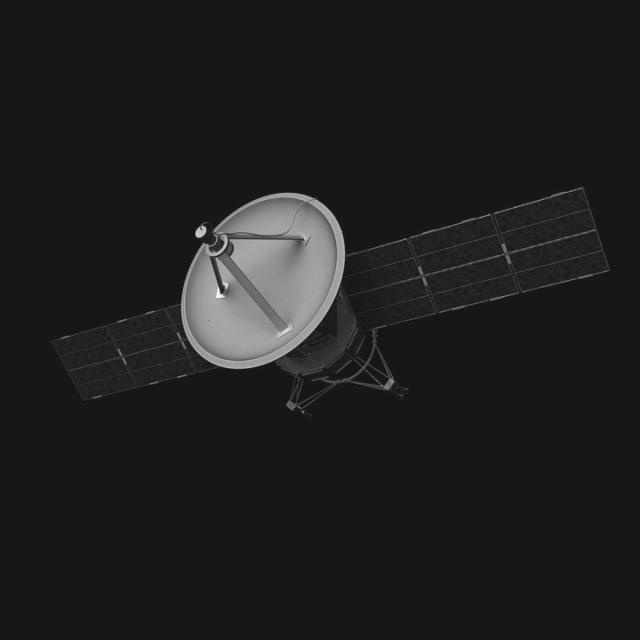satellite: (62, 156, 608, 457)
